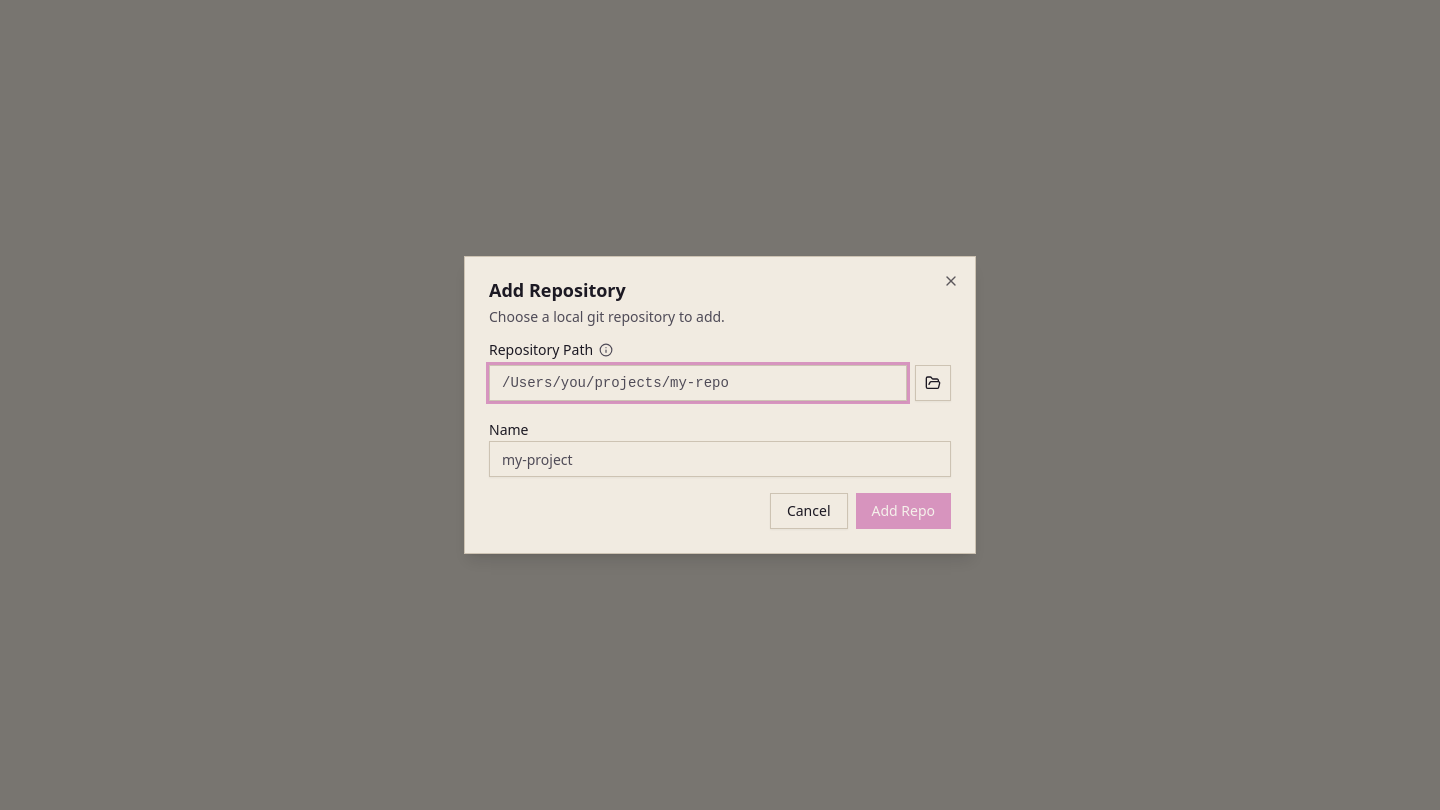
AddRepoDialog › directory picker › fills path and name from picker result
This screenshot has width=1440, height=810.
Step 1. Click the button titled "Browse..." → (933, 383), box [915,365,951,401]
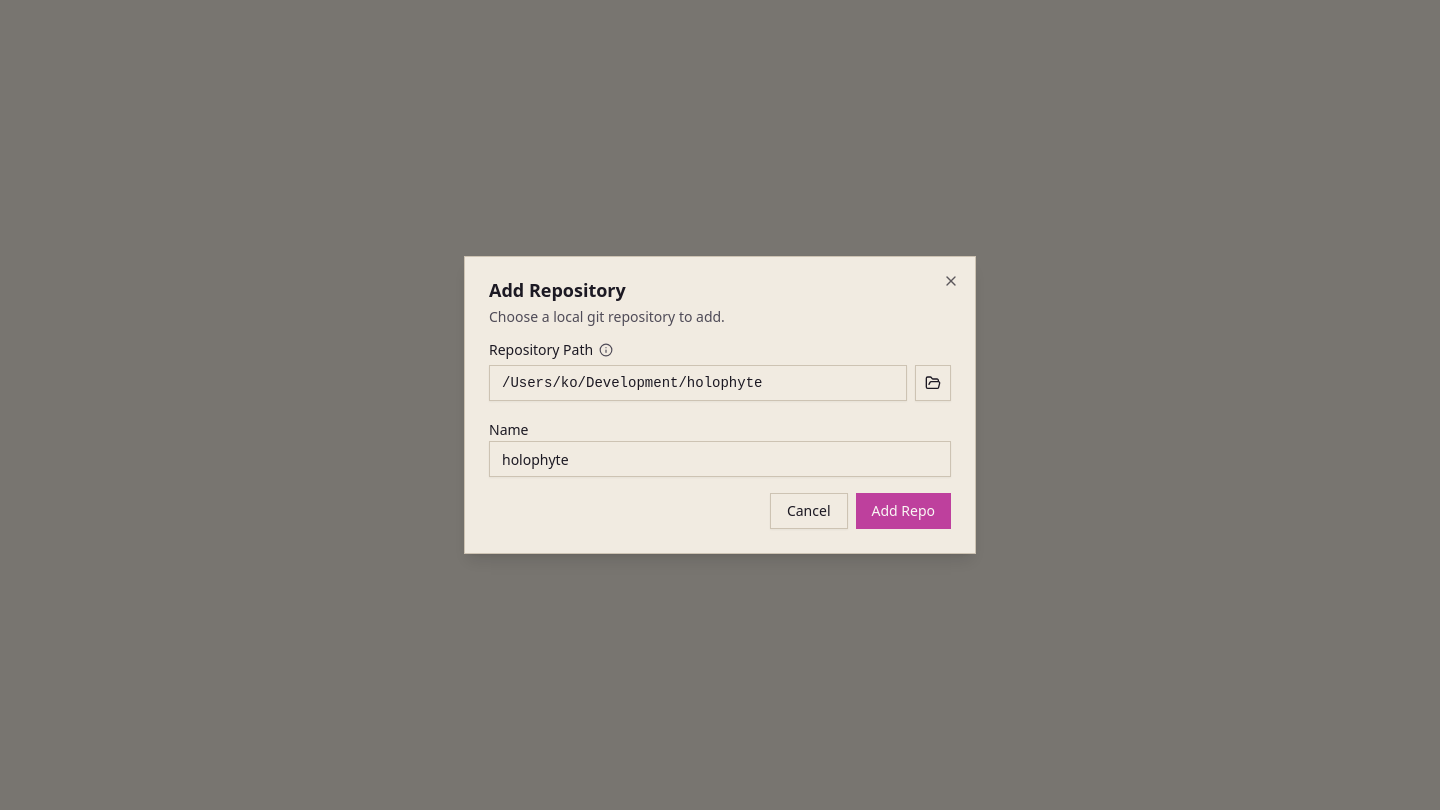
Now the field with placeholder "/Users/you/projects/my-repo" holds "/Users/ko/Development/holophyte", box [489,365,907,401]
Now the field with placeholder "my-project" holds "holophyte", box [489,441,951,477]
